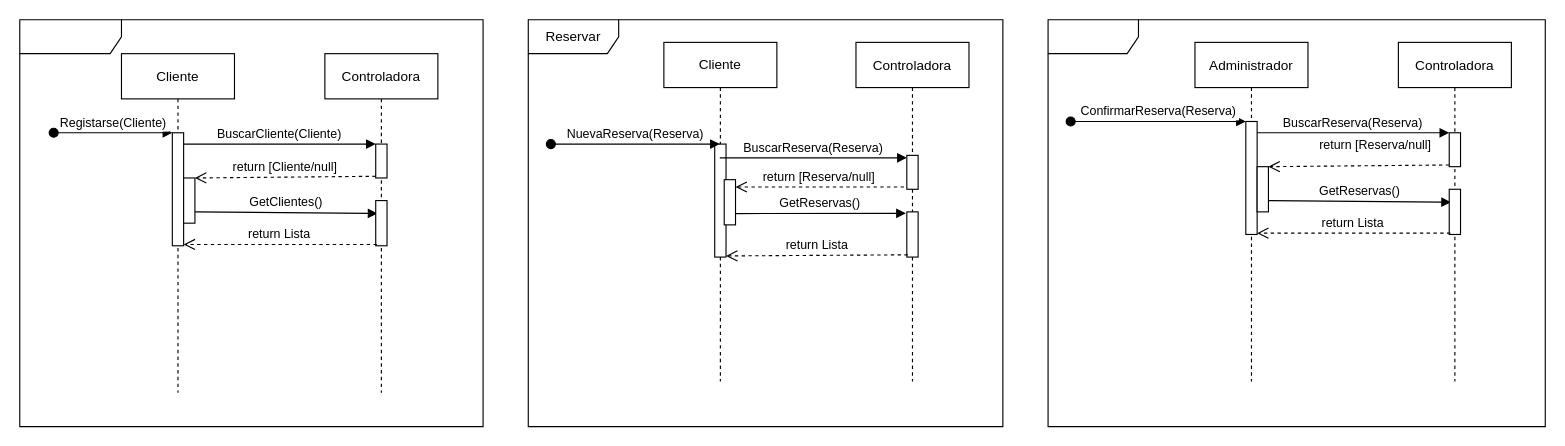
The diagram is 1565 pixels wide and 446 high, and some of its shapes have lost their labels. Each missing label, with the centre of its shape:
"Confirmar Reserva" goes at [1296,223].
"Registrarse" goes at [251,223].
